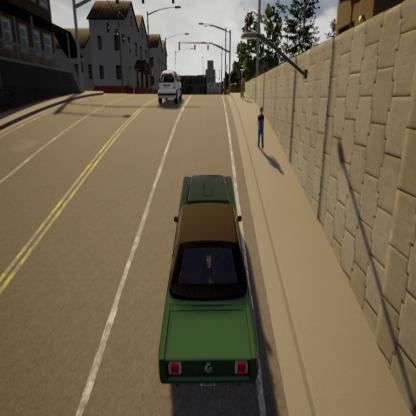Cars: (136, 159, 262, 416), (142, 57, 196, 121)
Pedestrian: (252, 99, 271, 170)
